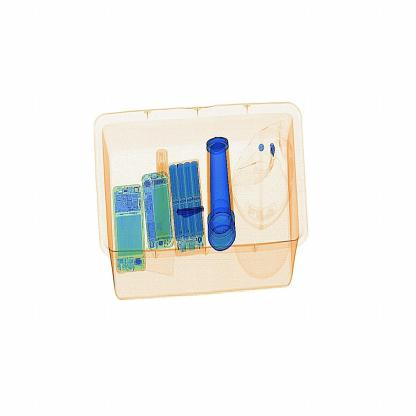knife: (175, 199, 210, 227)
